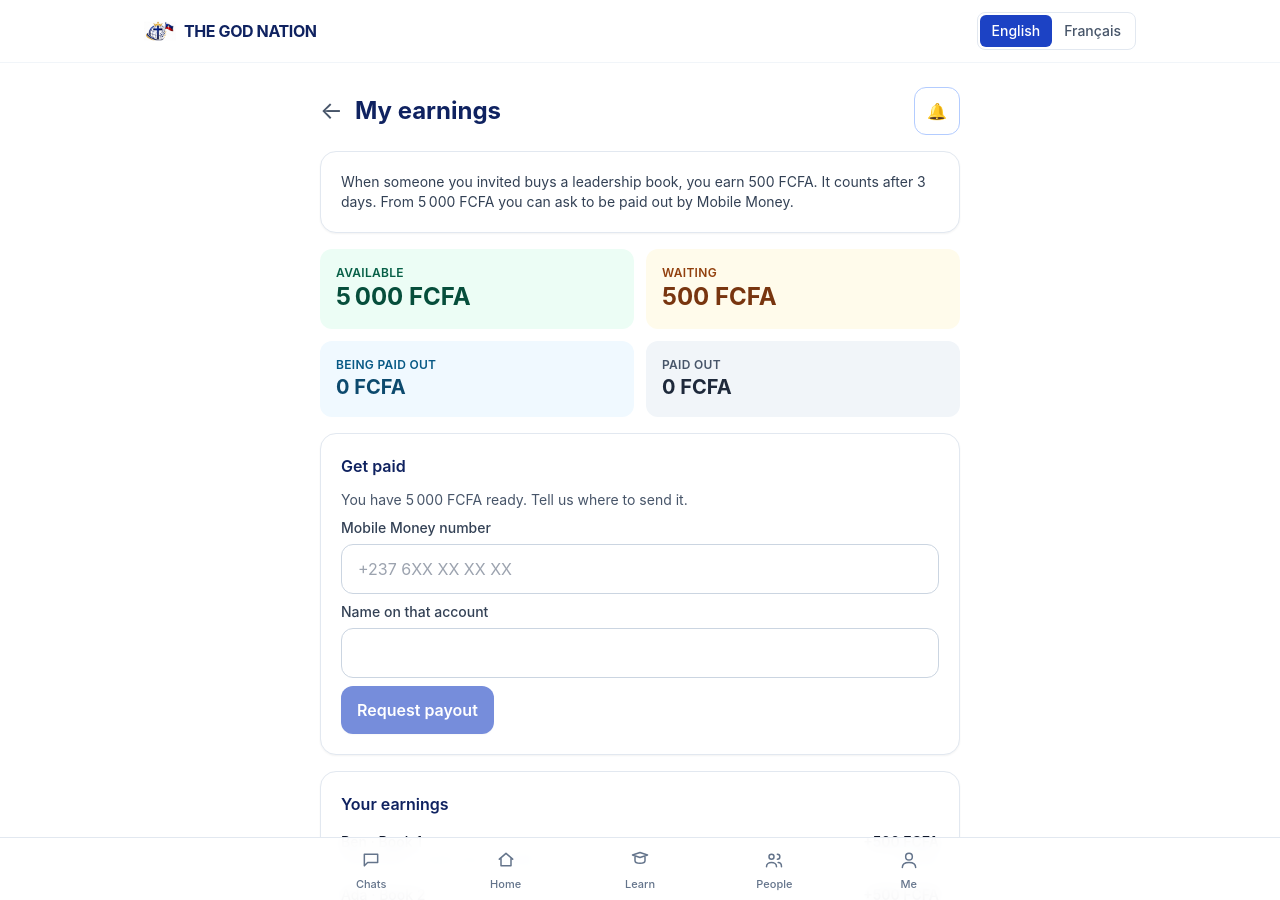
Test case: My earnings › lets the member request a payout once the minimum is reached
Expected: the button "Request payout" is disabled, [341,686,494,734]
In the field labelled "Mobile Money number": (640,569) [341,544,939,594], type "+237 670 000 111"
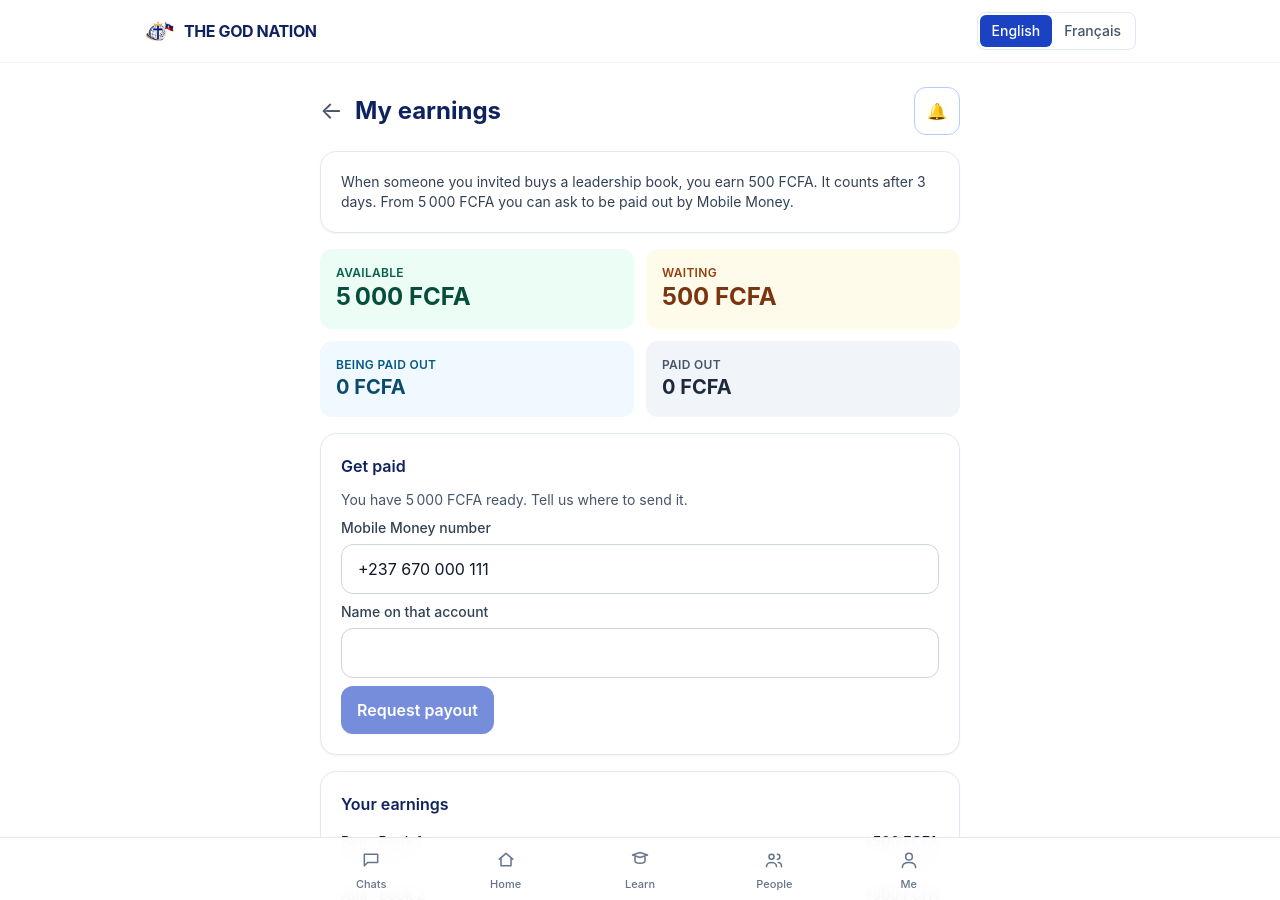
In the field labelled "Name on that account": (640,653) [341,628,939,678], type "Grace Ngwa"
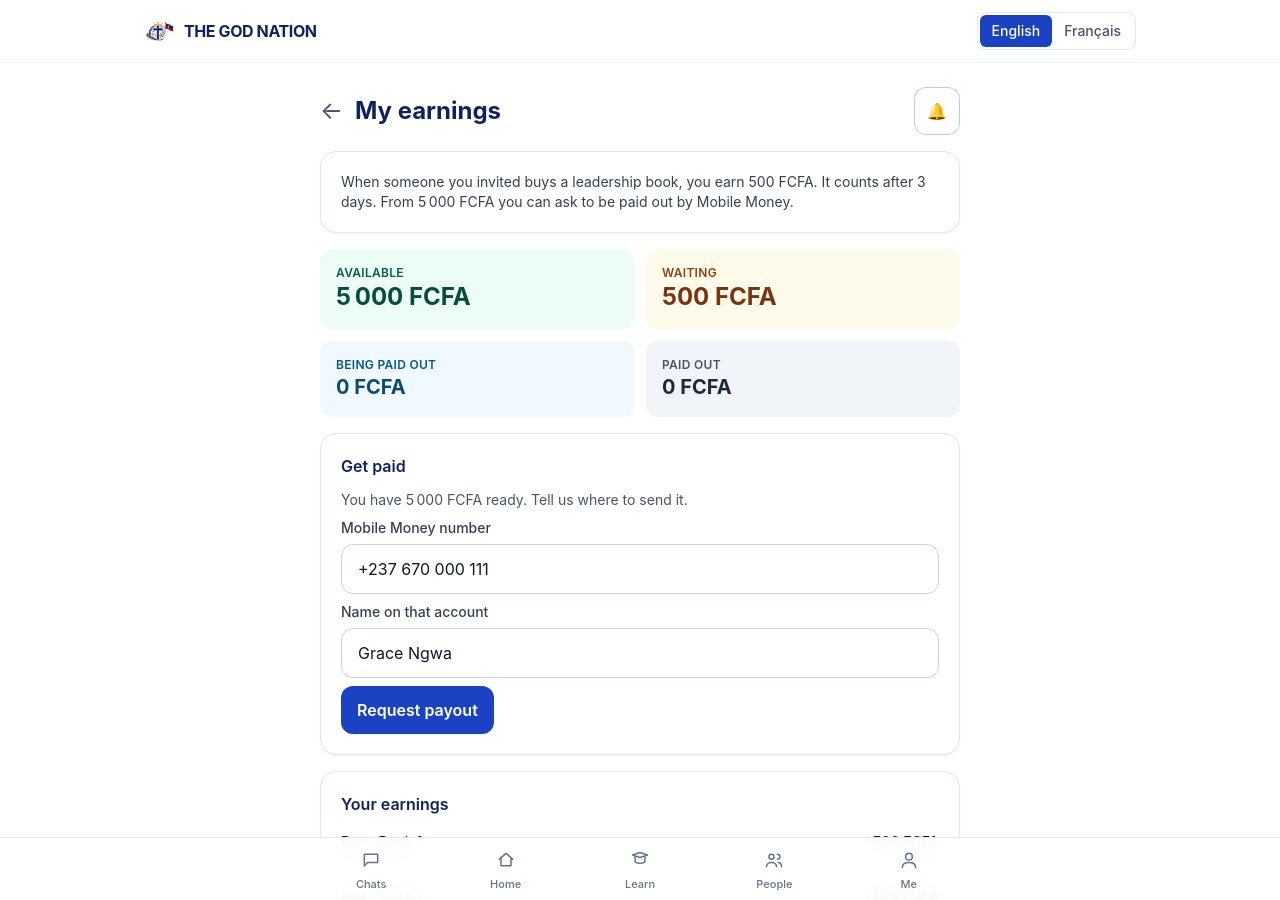
Click the button "Request payout": (417,710) [341,686,494,734]
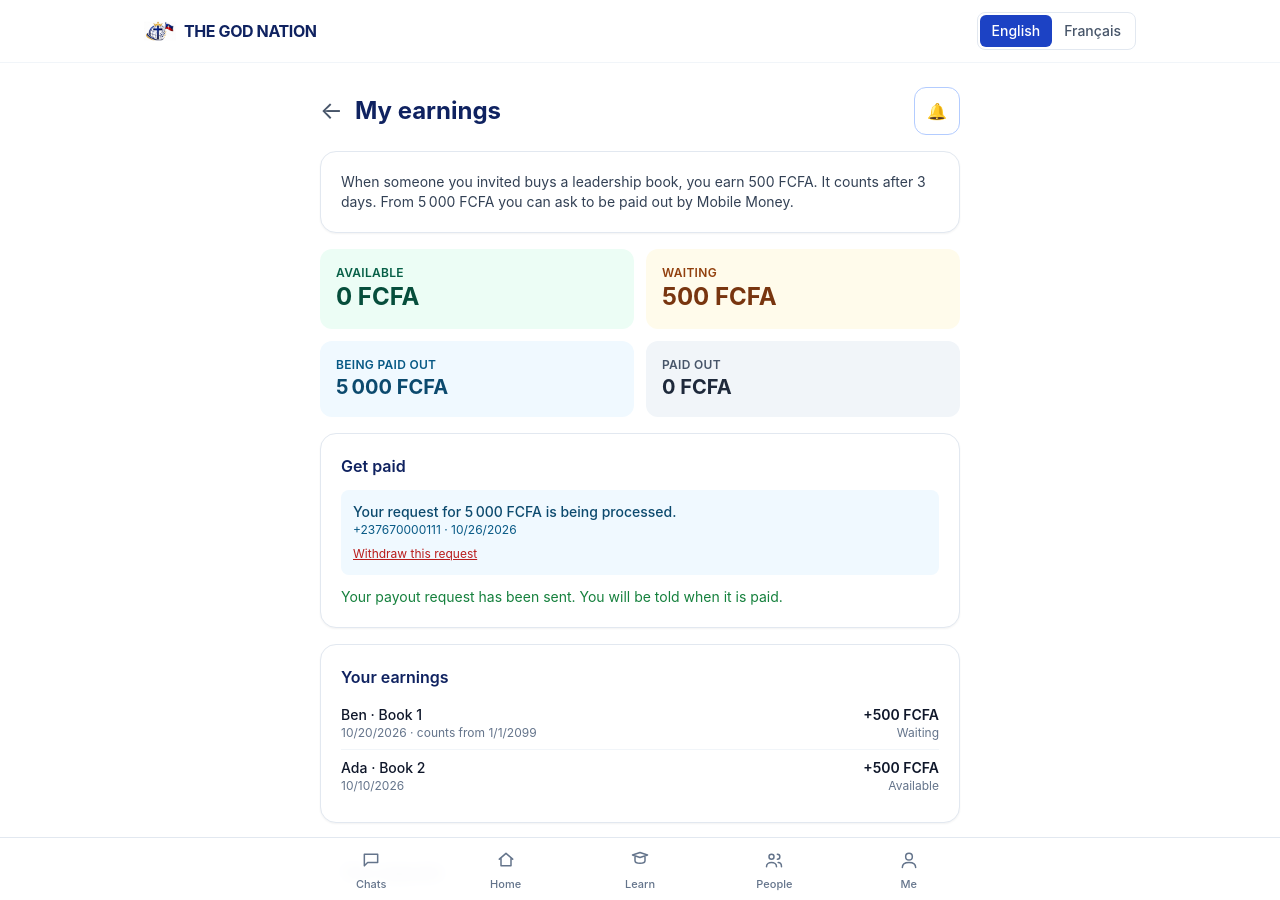
Expected: the text "Your request for 5 000 FCFA is being processed." is shown, [353,503,676,520]
Expected: the button "Request payout" is gone
